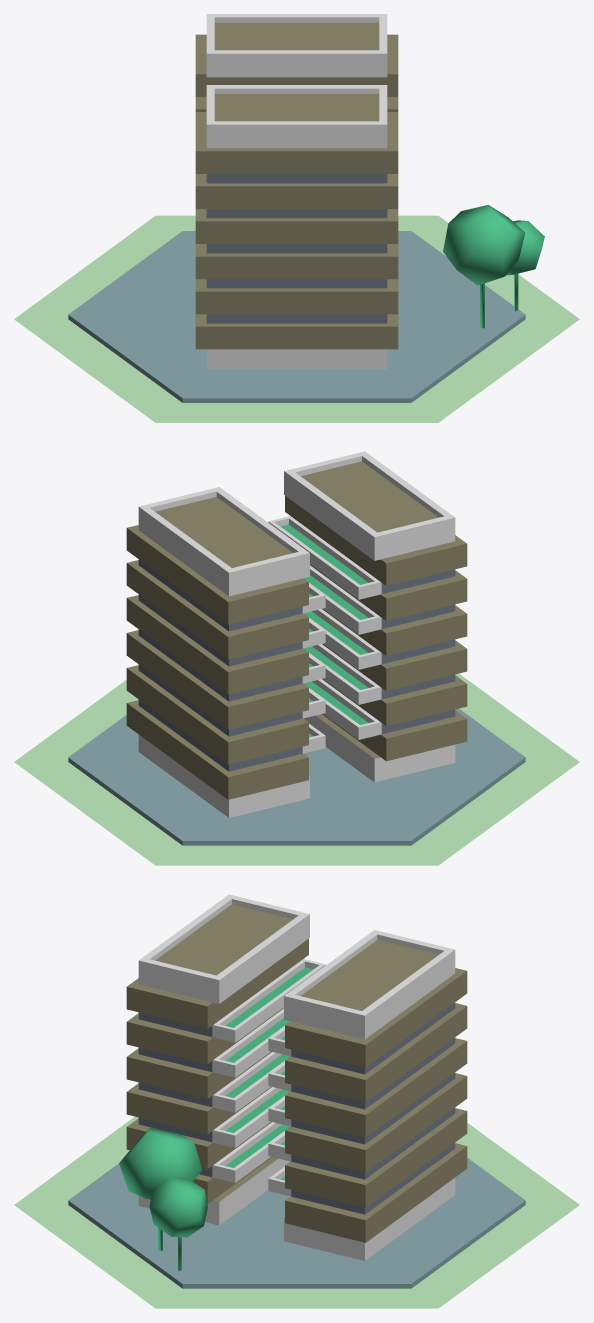
File: Temp_Building6.fbx
3 views of the same model, one above another, from view 1: azimuth 30°, elevation 25°; view 2: azimuth 150°, elevation 25°; view 3: azimuth 270°, elevation 25° (orthographic).
Parts seen in each view (by area): view 1: Plane.001; view 2: Plane.001; view 3: Plane.001.
Part boxes in pixels (<box>): Plane.001: <box>14,14,579,422</box>; Plane.001: <box>14,451,579,865</box>; Plane.001: <box>14,894,579,1308</box>.
Size of the model in its own units: 165 by 92.59 by 190.
